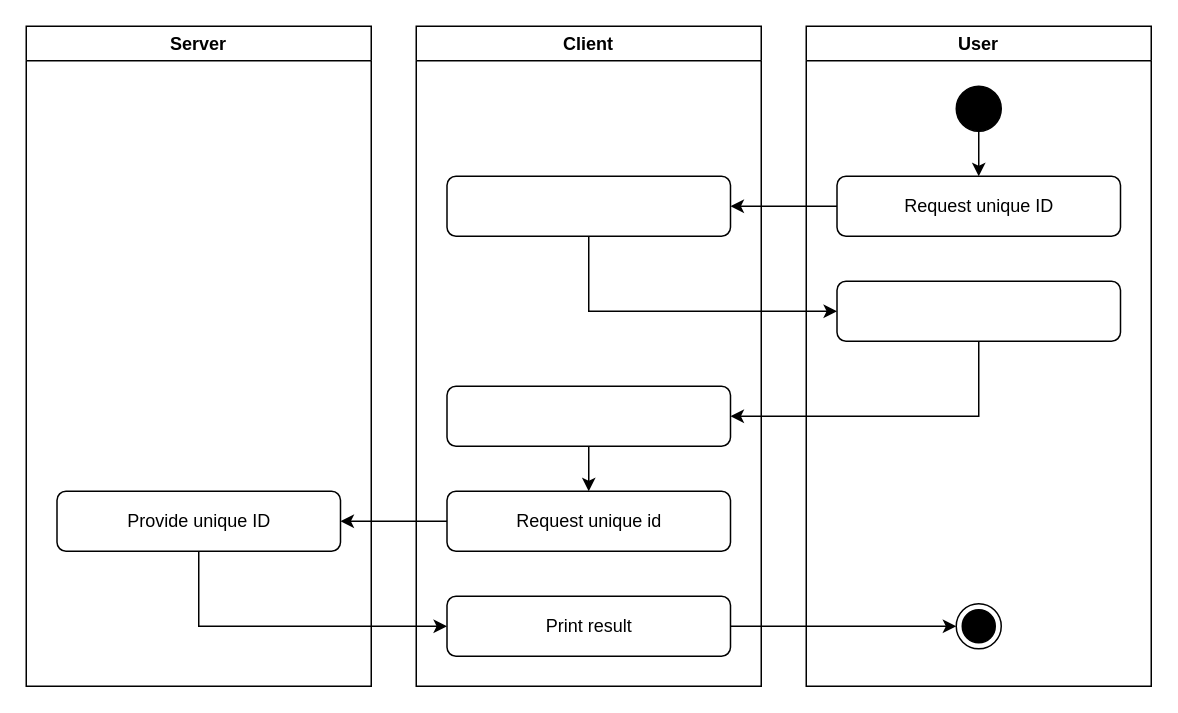
Some shapes in this 1178 by 713 pixel diagram are drawn without their labels. Each missing label, with the box of its shape:
Process UserInfo: (446, 385, 730, 446)
Provide UserInfo: (836, 280, 1120, 341)
Request UserInfo: (446, 175, 730, 236)
